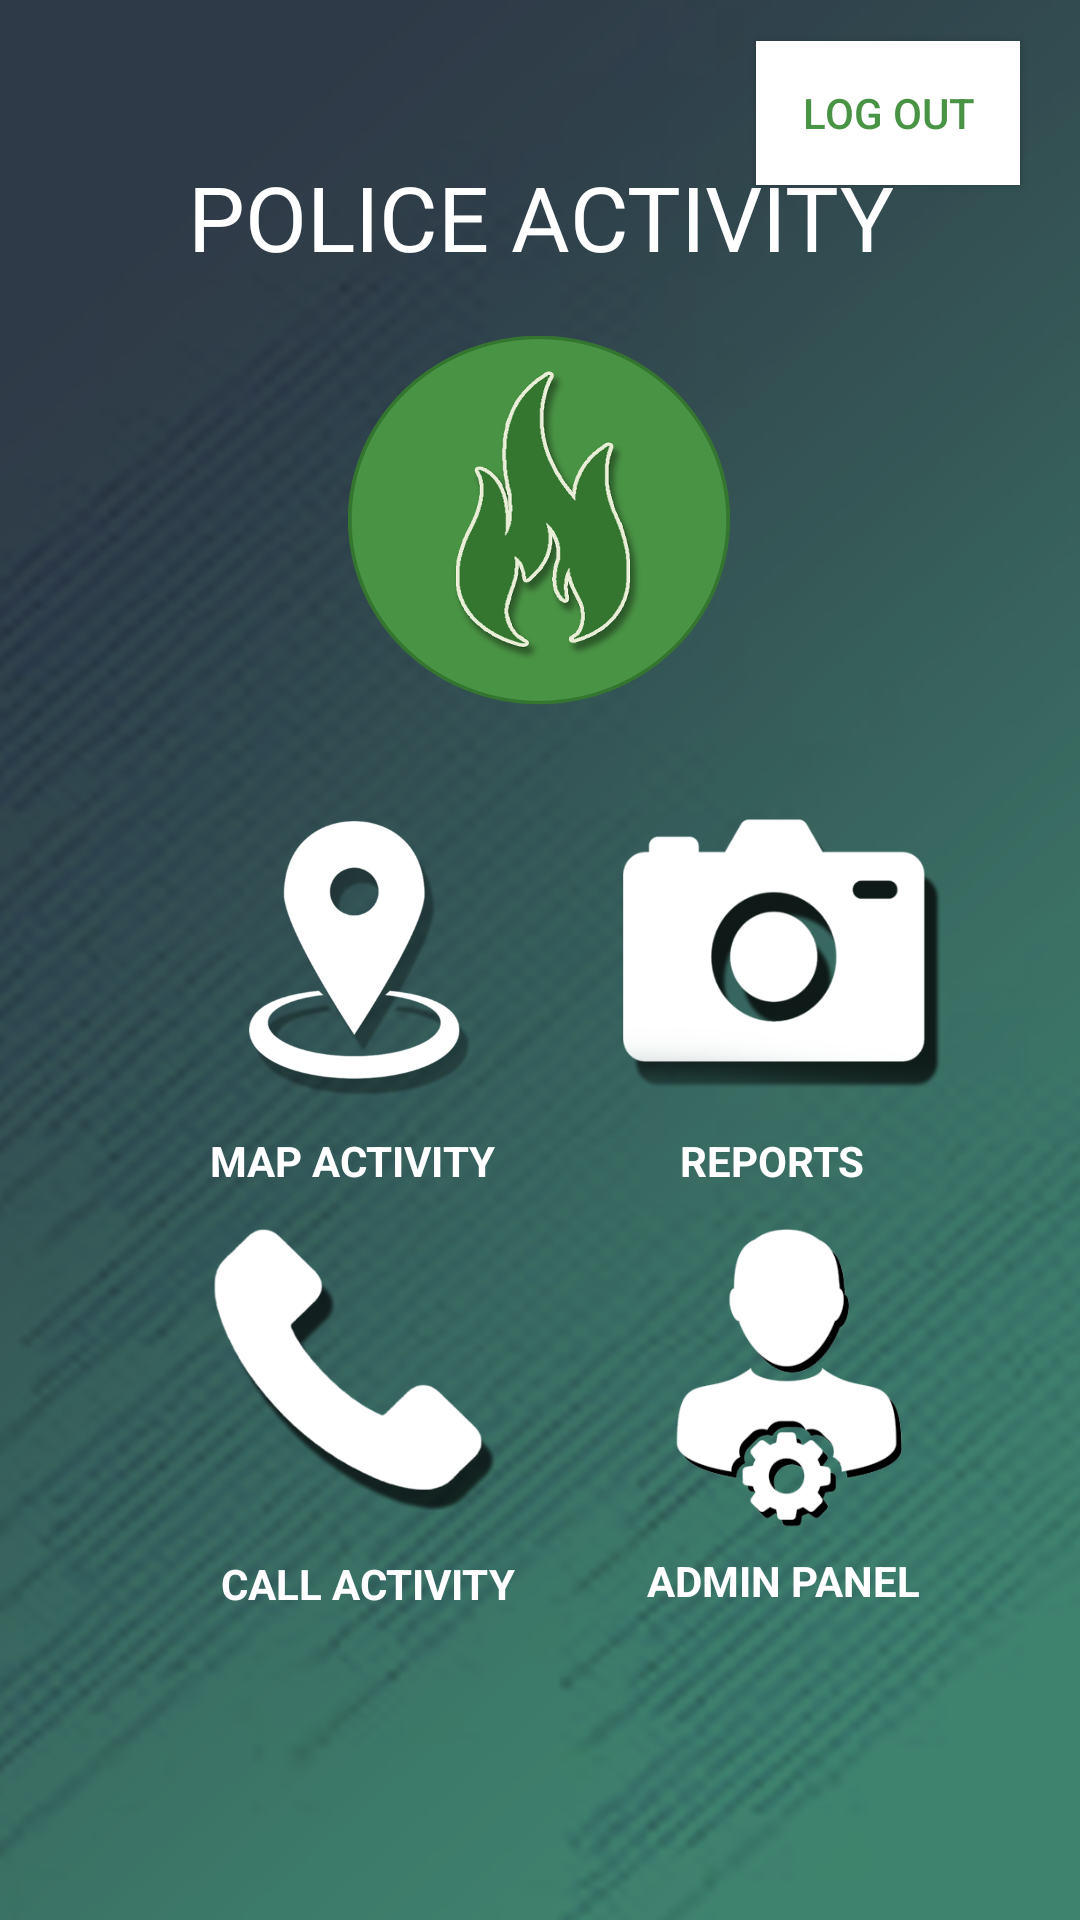

Screen size 1080x1920. Icon name, then its center in pixels as [x,y]:
locate: [357,956]
